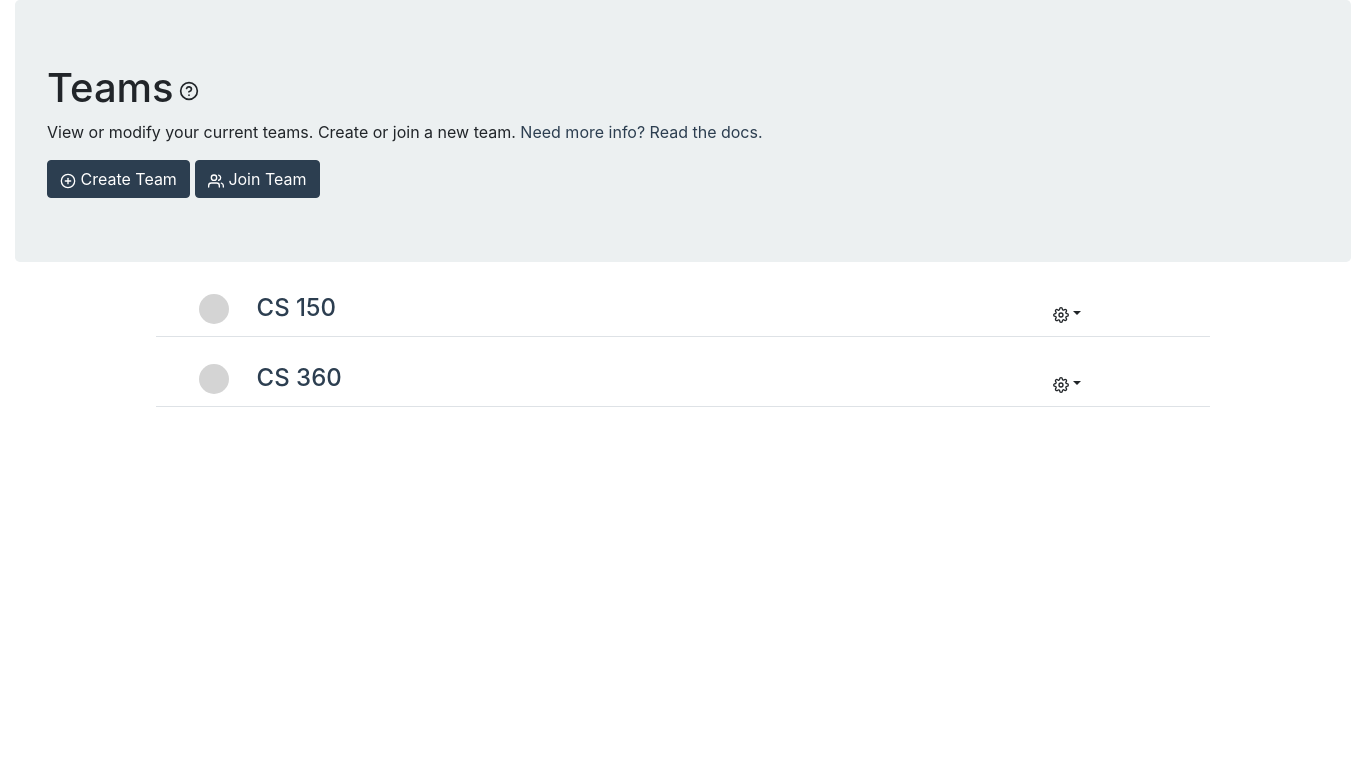
Test: Tests with successful API data › Team join tests › Team join is successful
Click the button "Join Team" at (257, 179), box [195,160,320,198]
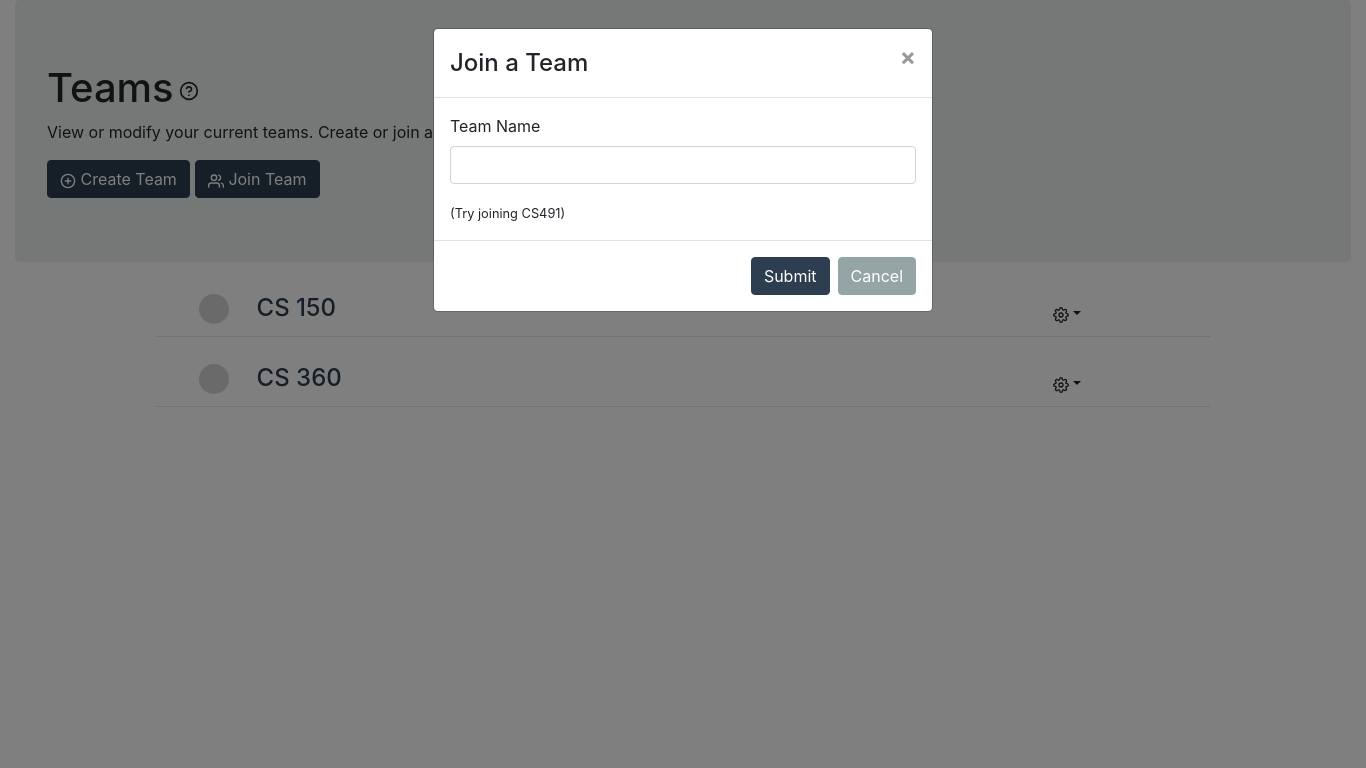
Result: the text "Join a Team" is shown at [450,45,588,81]
Type "Hollywood Stars" into the field labelled "Team Name" at (683, 165), box [450,146,916,184]
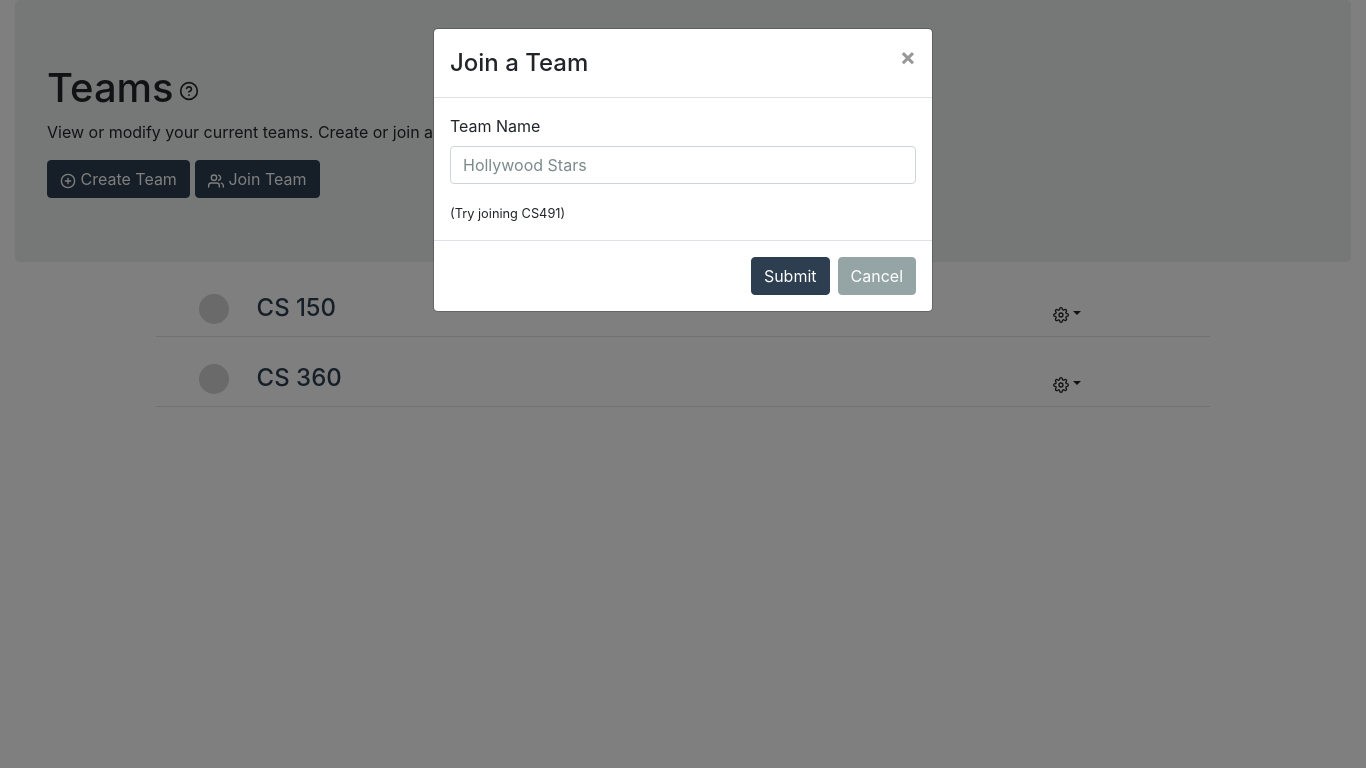
Click the button "Submit" at (790, 276), box [751,257,830,295]
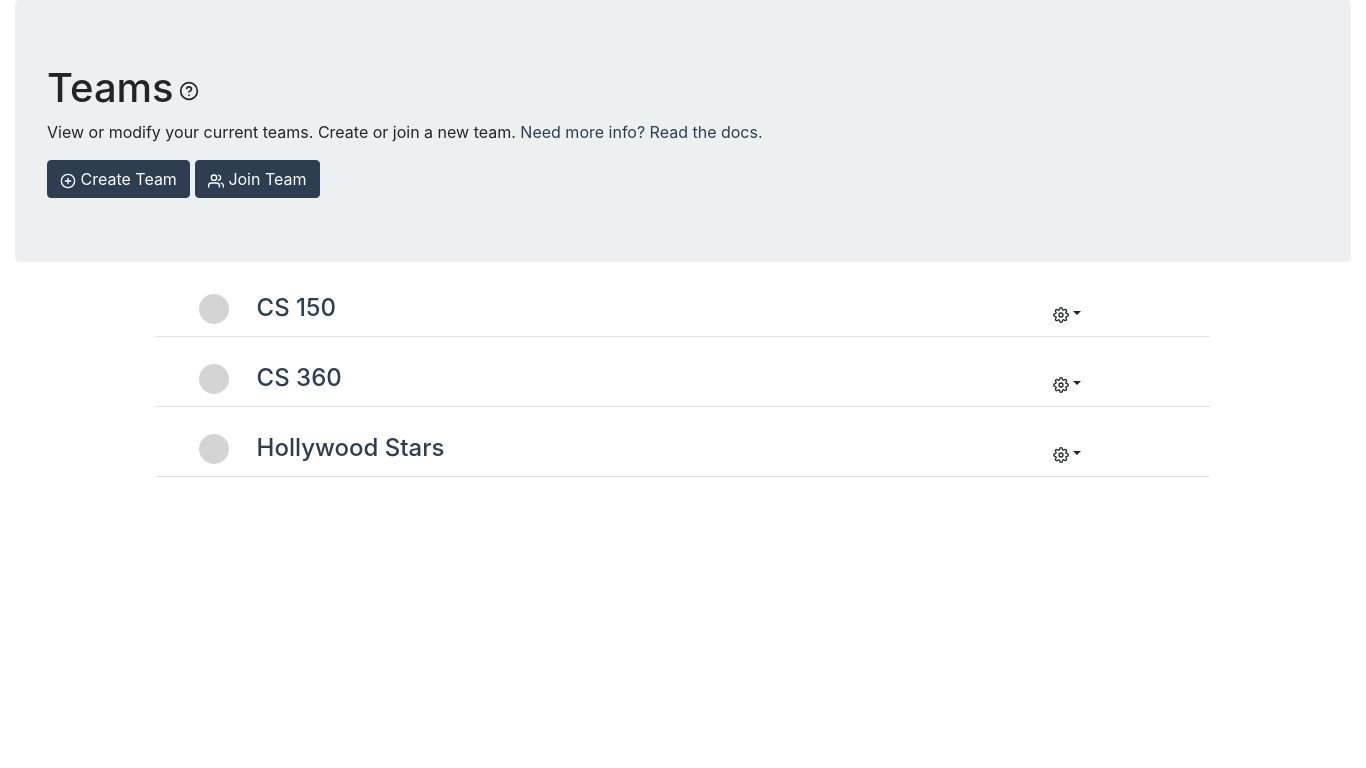
Result: the link "Hollywood Stars" is shown at [257,433,444,462]
